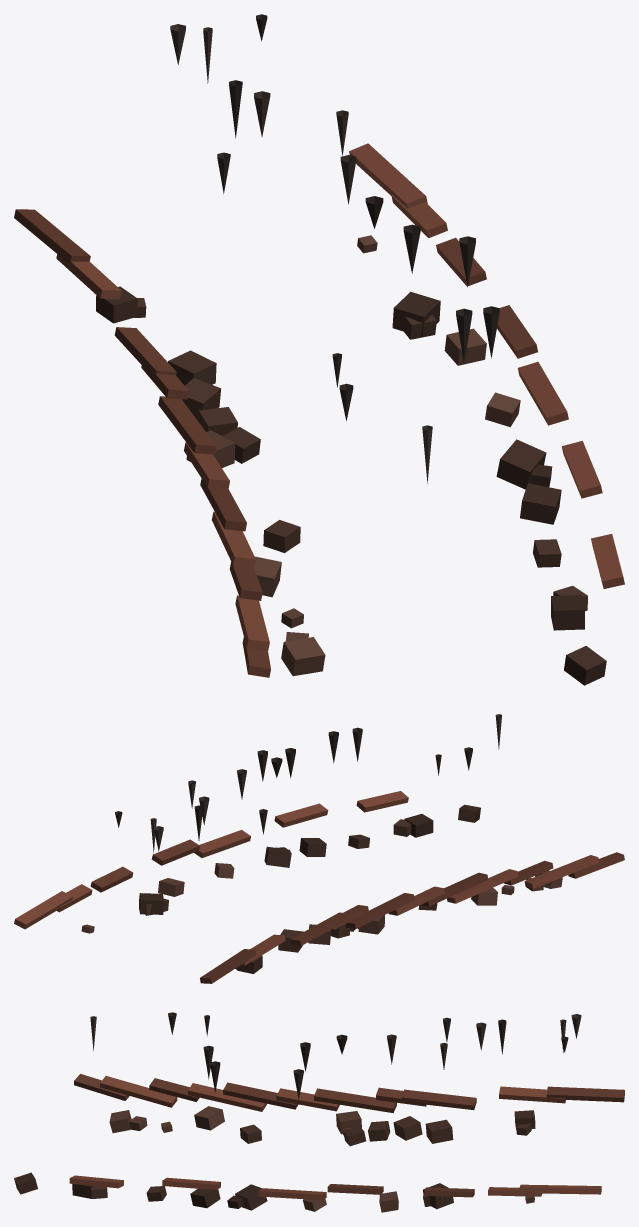
Rendered from lava_tube_run_bend_n30_detail1.glb.
3 renders of one model, top to bottom at view 1: azimuth 30°, elevation 25°; view 2: azimuth 150°, elevation 25°; view 3: azimuth 270°, elevation 25°, orthographic. The views are drawn at different scales.
Parts seen in each view (by area): view 1: lava_tube_run_bend_n30_detail1; view 2: lava_tube_run_bend_n30_detail1; view 3: lava_tube_run_bend_n30_detail1.
Boxes of the visible parts, x1,y1,x2,y2 form: lava_tube_run_bend_n30_detail1: [14, 14, 624, 685]; lava_tube_run_bend_n30_detail1: [14, 714, 624, 983]; lava_tube_run_bend_n30_detail1: [14, 1012, 624, 1212].
Size of the model in its own units: 26.14 by 14.12 by 41.35.
